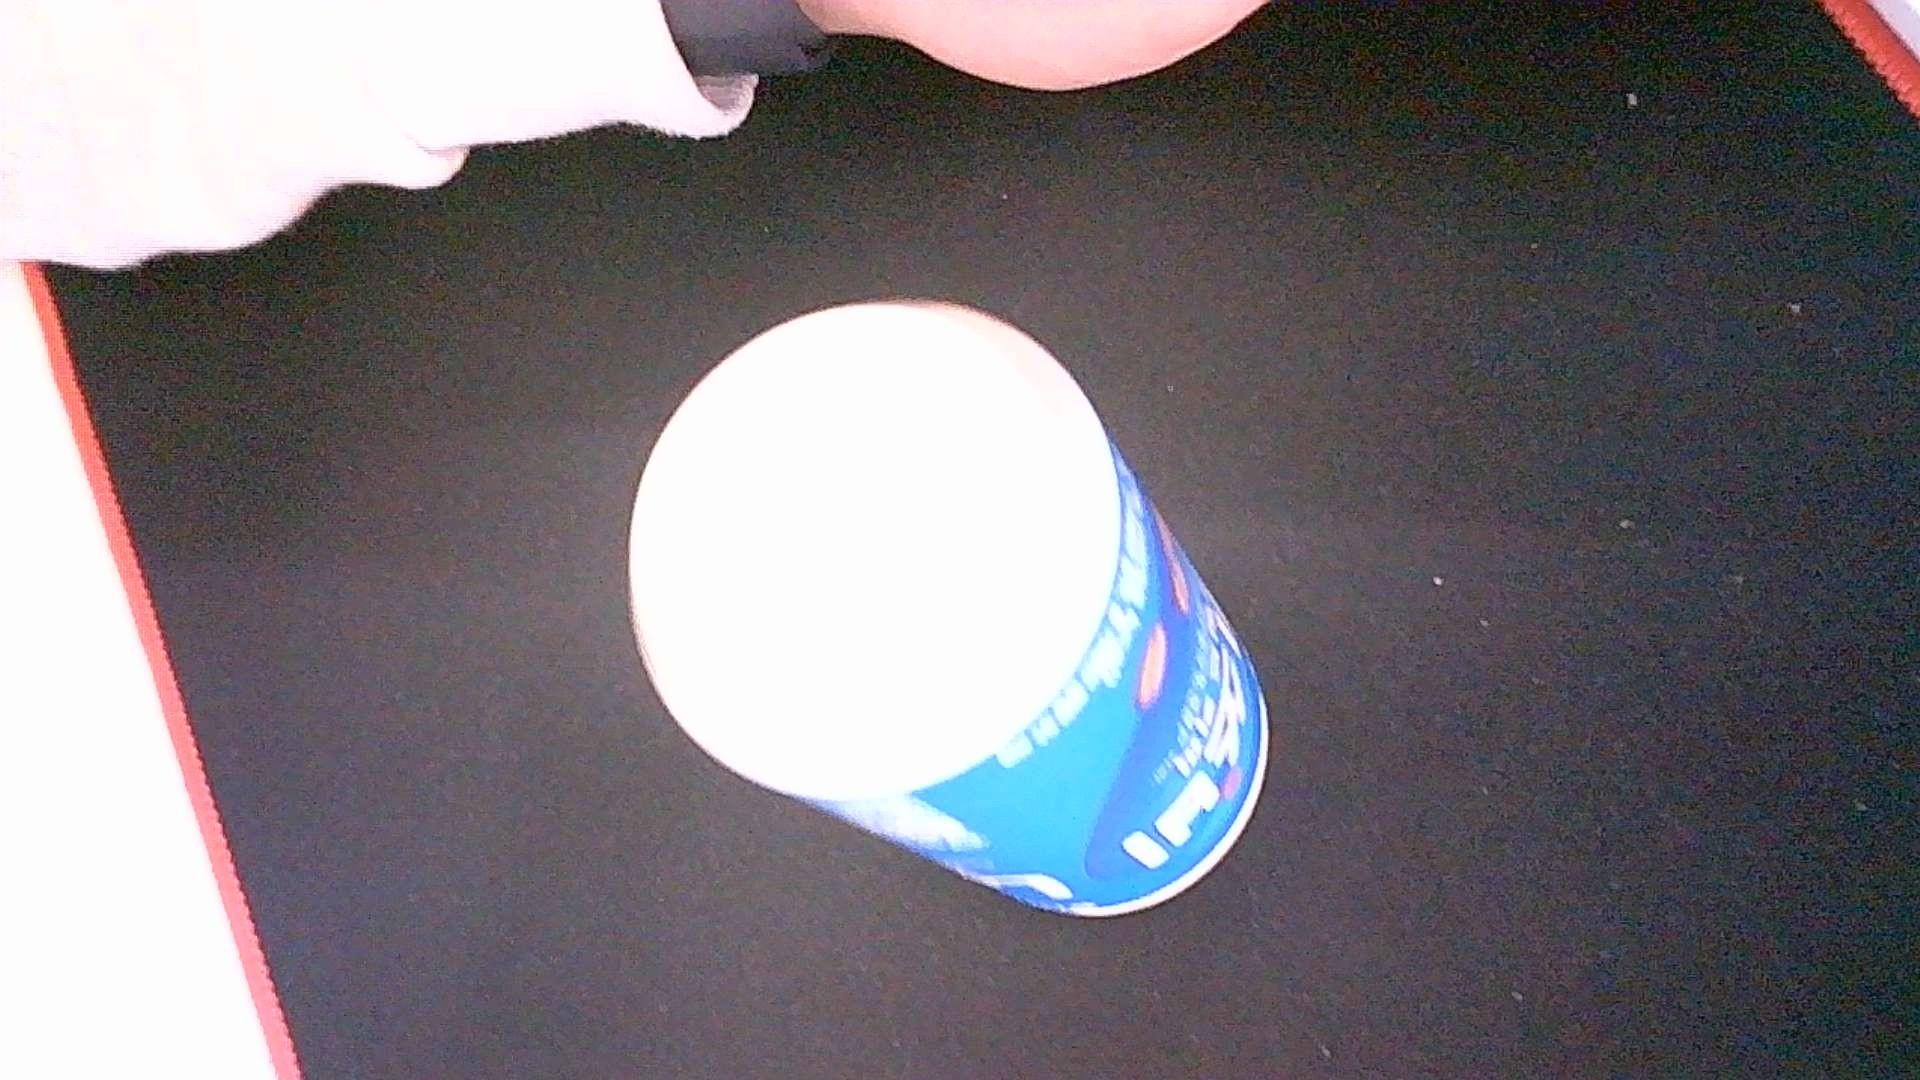letsbe: (625, 294, 1272, 919)
